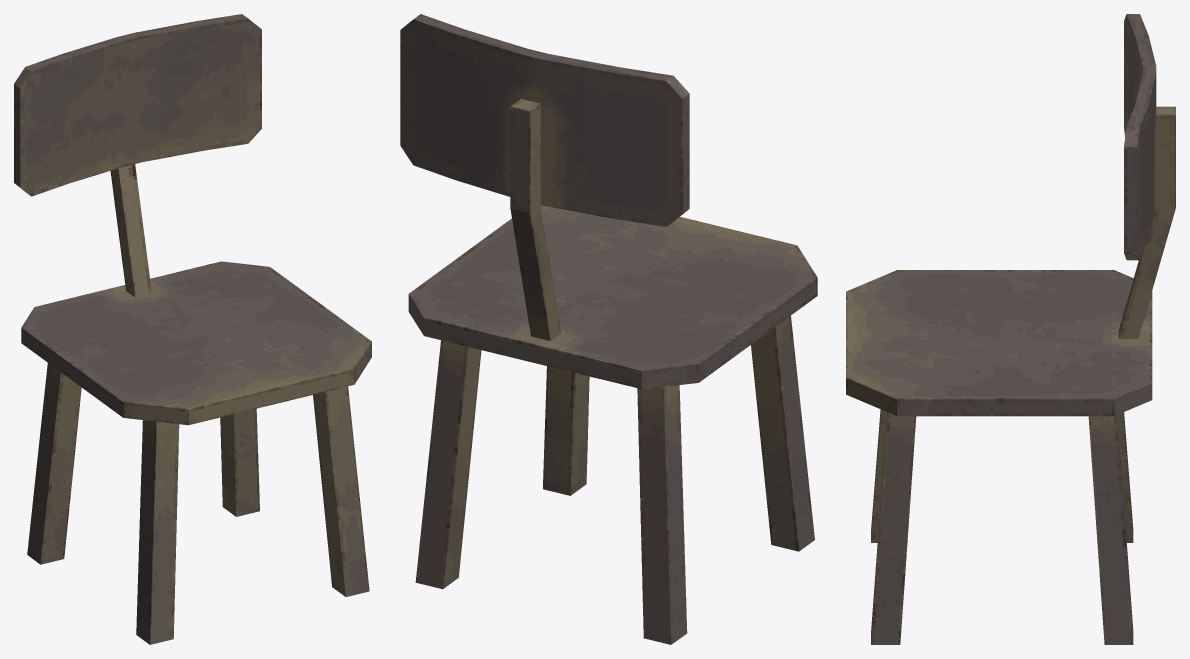
File: single_chair.glb
3 renders of one model, left to right at view 1: azimuth 30°, elevation 25°; view 2: azimuth 150°, elevation 25°; view 3: azimuth 270°, elevation 25°, orthographic. The views are drawn at different scales.
Visible parts, largest first — view 1: single-chair-col; view 2: single-chair-col; view 3: single-chair-col.
Boxes of the visible parts, x1,y1,x2,y2 form: single-chair-col: (14,14,371,644); single-chair-col: (400,14,817,644); single-chair-col: (846,14,1175,644).
Bounding box in the file's own units: 1.09 × 2.04 × 1.18.
1 material, 1 textured.
